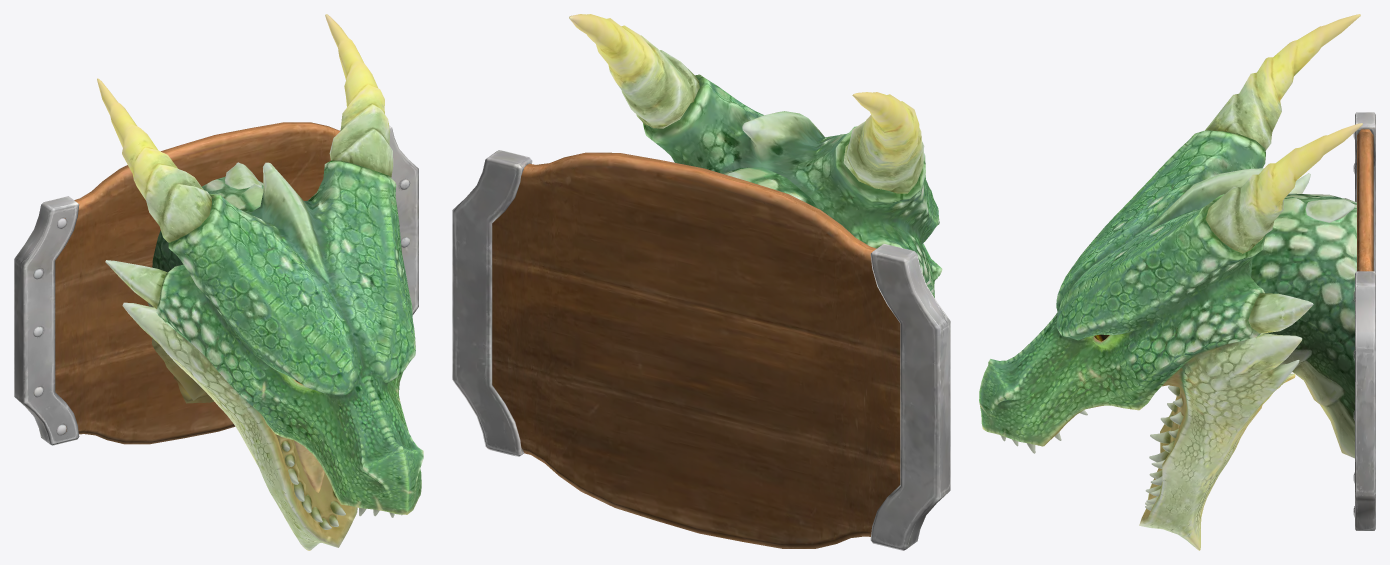
3 views of the same model, side by side, from view 1: azimuth 30°, elevation 25°; view 2: azimuth 150°, elevation 25°; view 3: azimuth 270°, elevation 25° (orthographic). The views are drawn at different scales.
Parts seen in each view (by area): view 1: SM_Trophy_Plaque_GreenDragon_LOD0; view 2: SM_Trophy_Plaque_GreenDragon_LOD0; view 3: SM_Trophy_Plaque_GreenDragon_LOD0.
Part boxes in pixels (x1,y1,x2,y2): SM_Trophy_Plaque_GreenDragon_LOD0: (14,14,423,550); SM_Trophy_Plaque_GreenDragon_LOD0: (452,14,950,550); SM_Trophy_Plaque_GreenDragon_LOD0: (979,14,1375,550).
Bounding box in the file's own units: 1.95 × 2.15 × 1.62.
3 materials, 3 textured.
